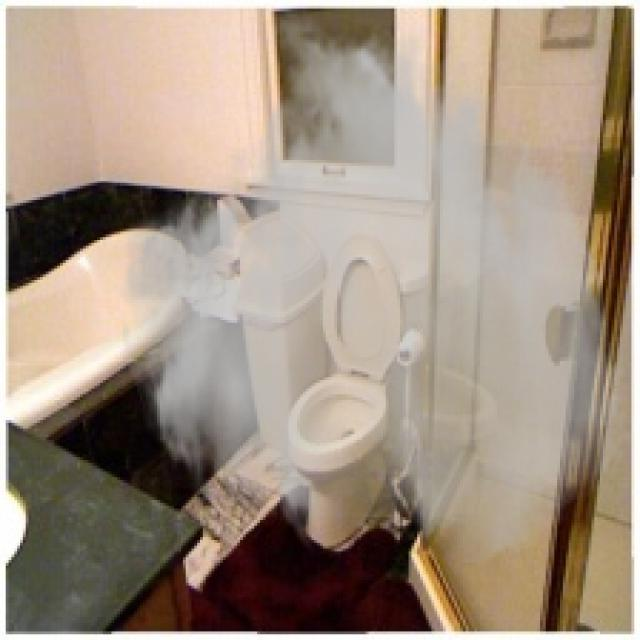Smoke: (114, 6, 632, 568)
